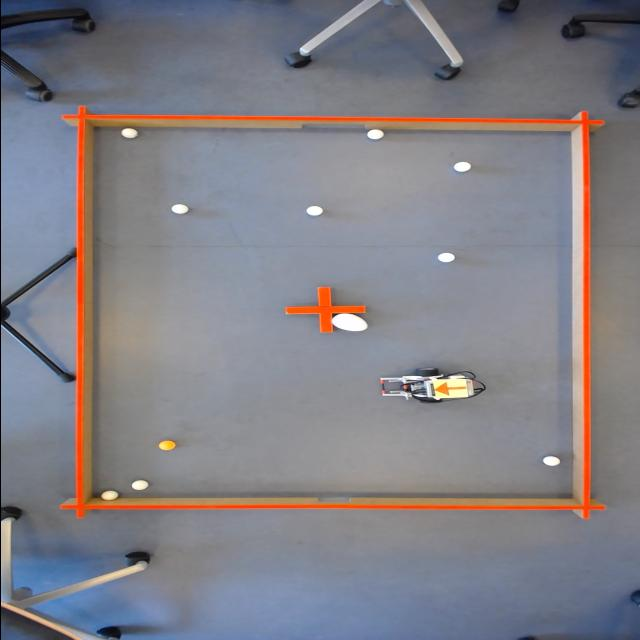cross: (282, 285, 367, 334)
egg: (330, 312, 374, 332)
orange_ball: (154, 438, 178, 451)
robot: (428, 376, 471, 398)
white_ball: (126, 479, 152, 492), (165, 202, 189, 216), (301, 204, 325, 218), (115, 125, 138, 139), (363, 128, 389, 140), (540, 454, 564, 467), (96, 489, 119, 502), (432, 252, 456, 264), (451, 162, 473, 174)
